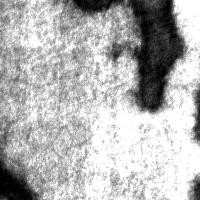patches: (128, 1, 184, 111), (0, 160, 52, 200), (1, 160, 33, 200)
